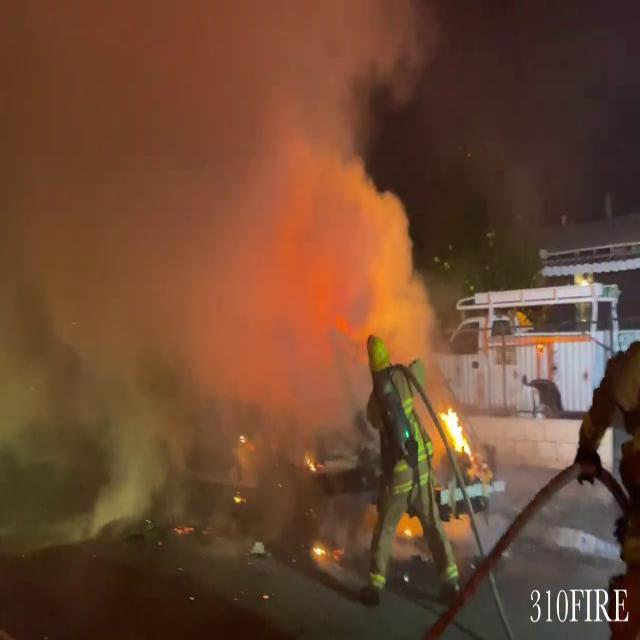Fire: (439, 400, 479, 464)
Smoke: (0, 1, 468, 537)
